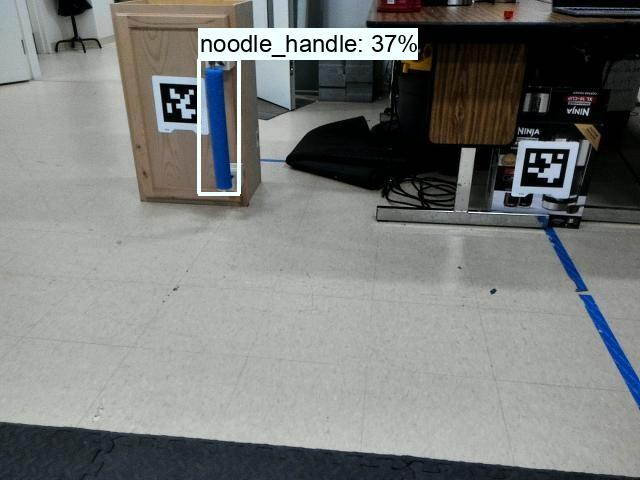noodle_handle: (201, 61, 234, 195)
